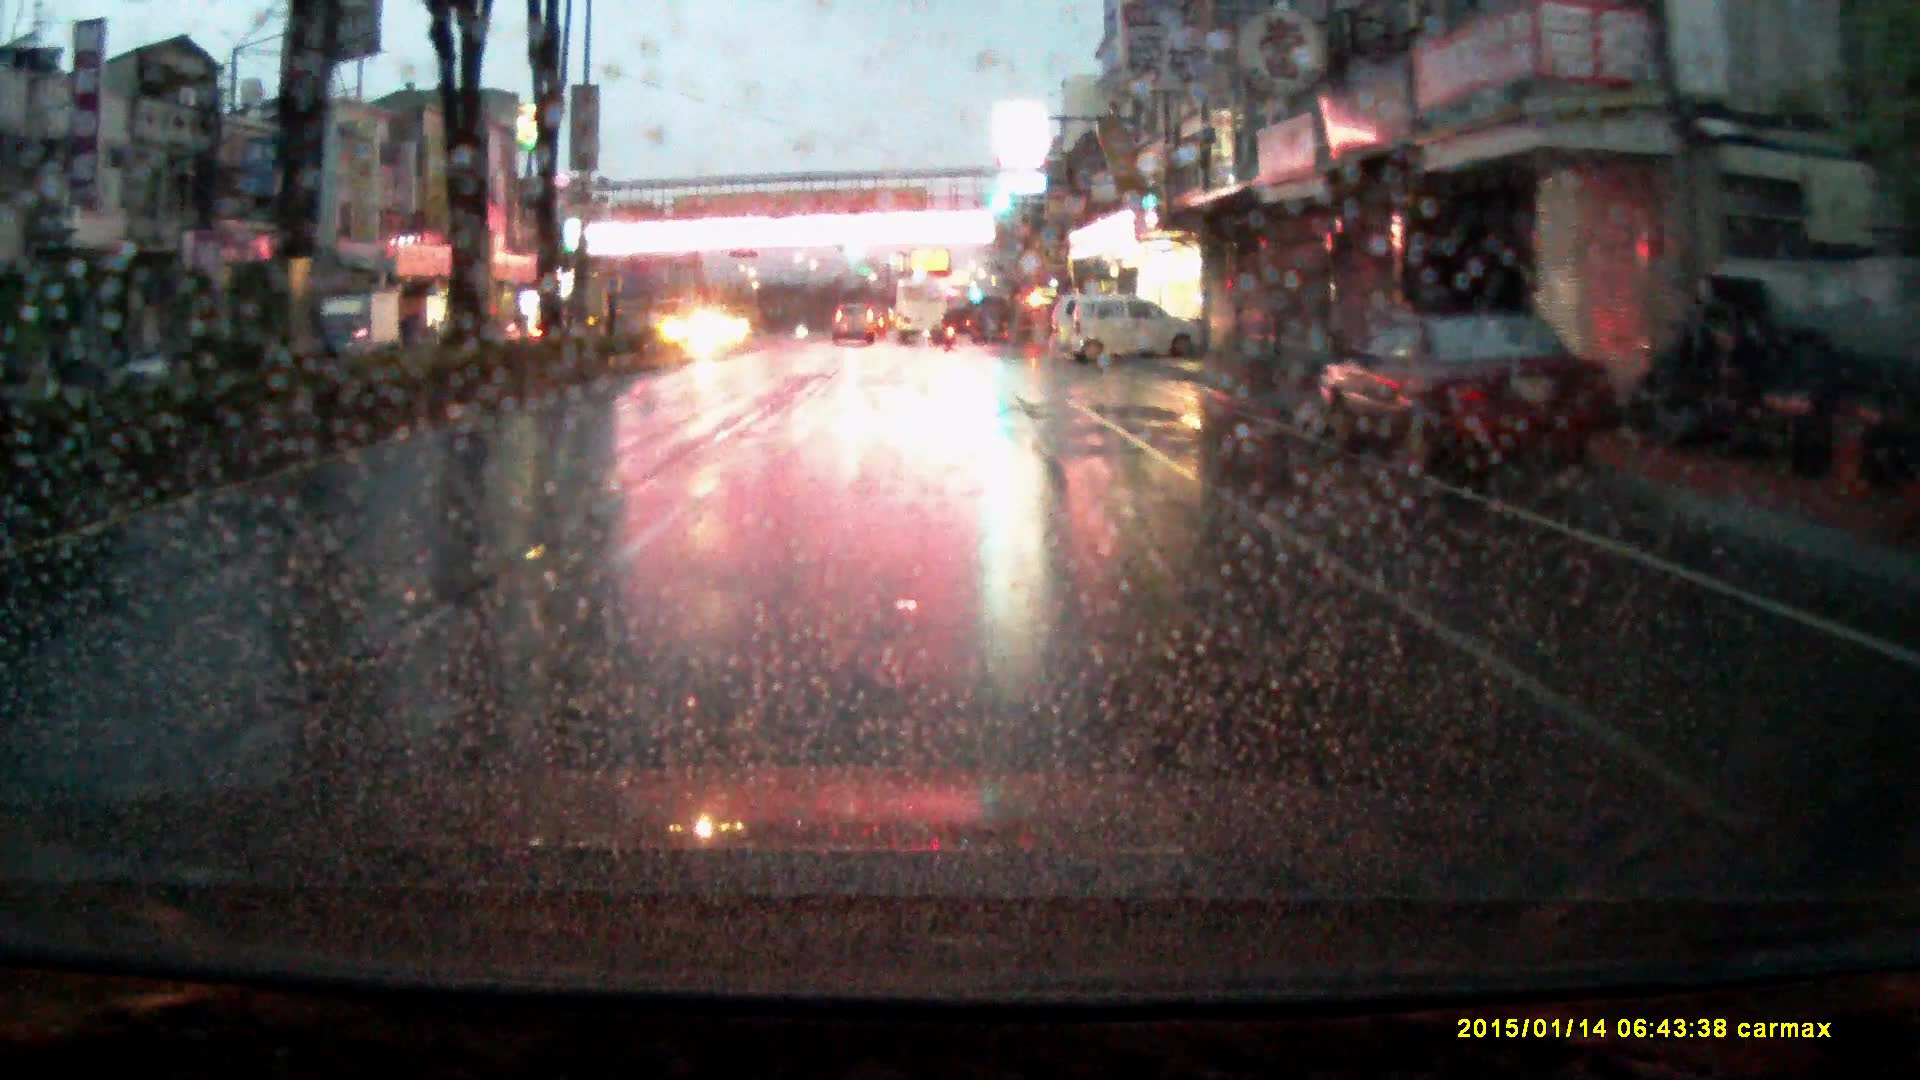vehicle: (1323, 313, 1613, 477), (1069, 290, 1209, 368), (315, 286, 405, 363), (895, 277, 947, 342), (1050, 291, 1105, 348), (833, 297, 880, 339)
